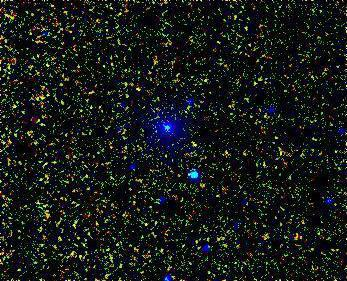star: (124, 79, 154, 109)
